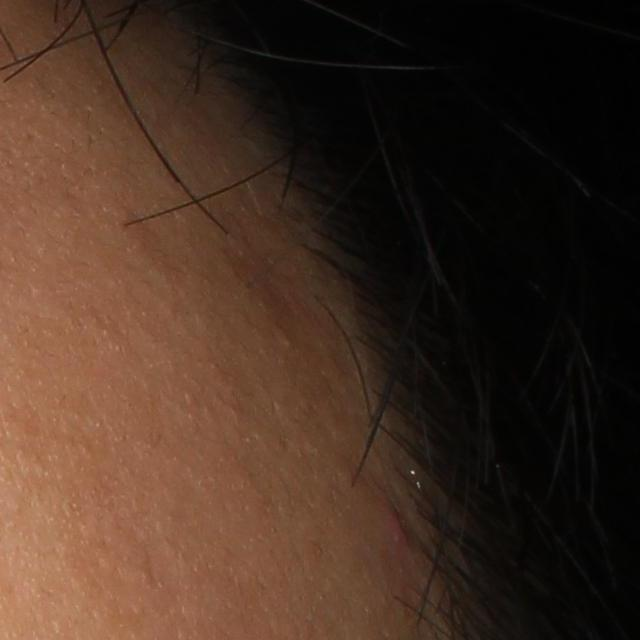papule: (386, 509, 410, 554)
